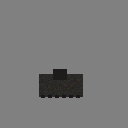armoured_vehicle: (39, 74, 83, 97)
